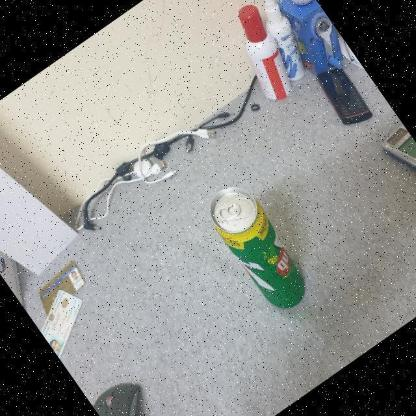Can: (212, 186, 308, 312)
